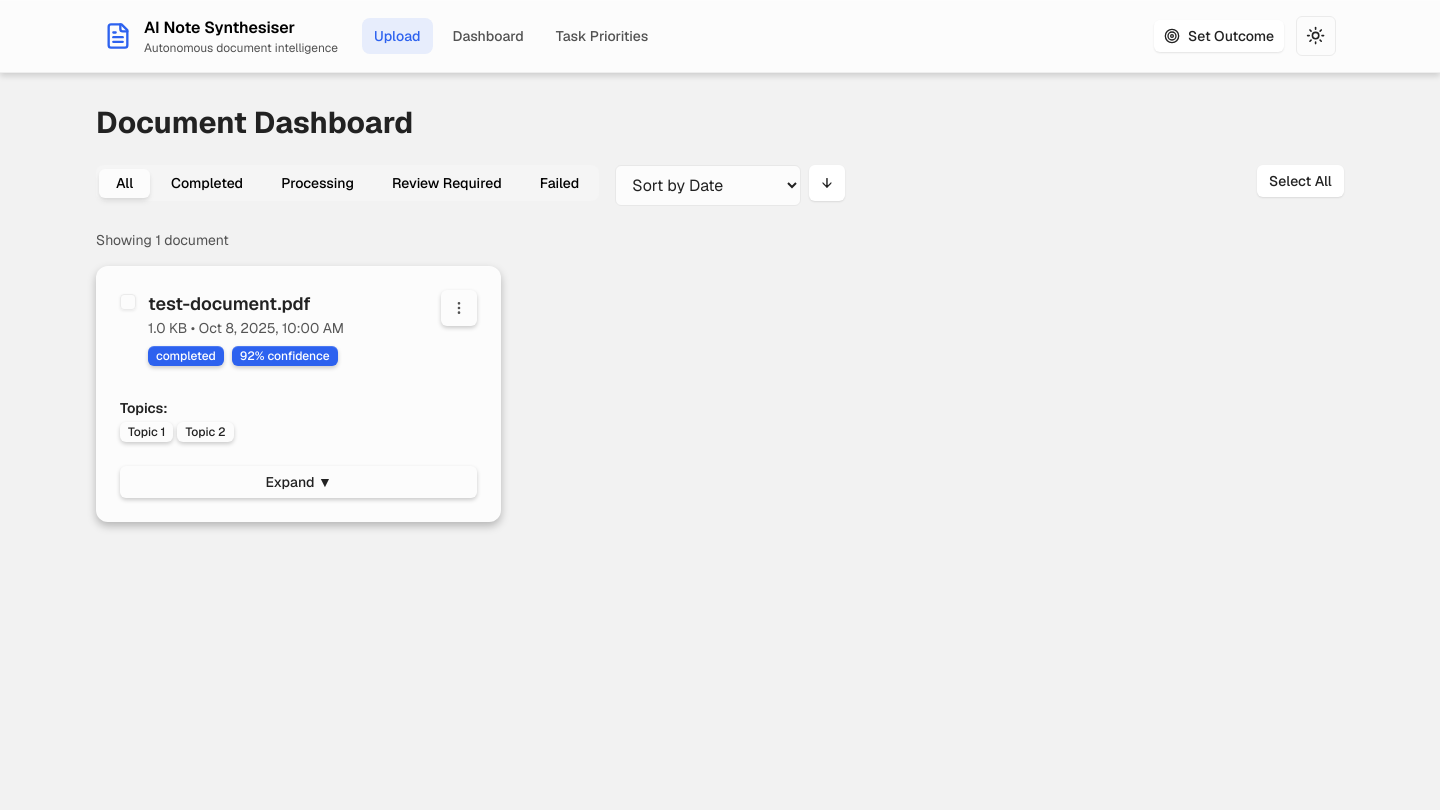
Test: Dashboard Page › should expand card to show full summary
Expected: the text "test-document.pdf" is shown, [148,292,311,315]
Click the button "Expand ▼": (299,482) [120,466,477,498]
(page scrolled)
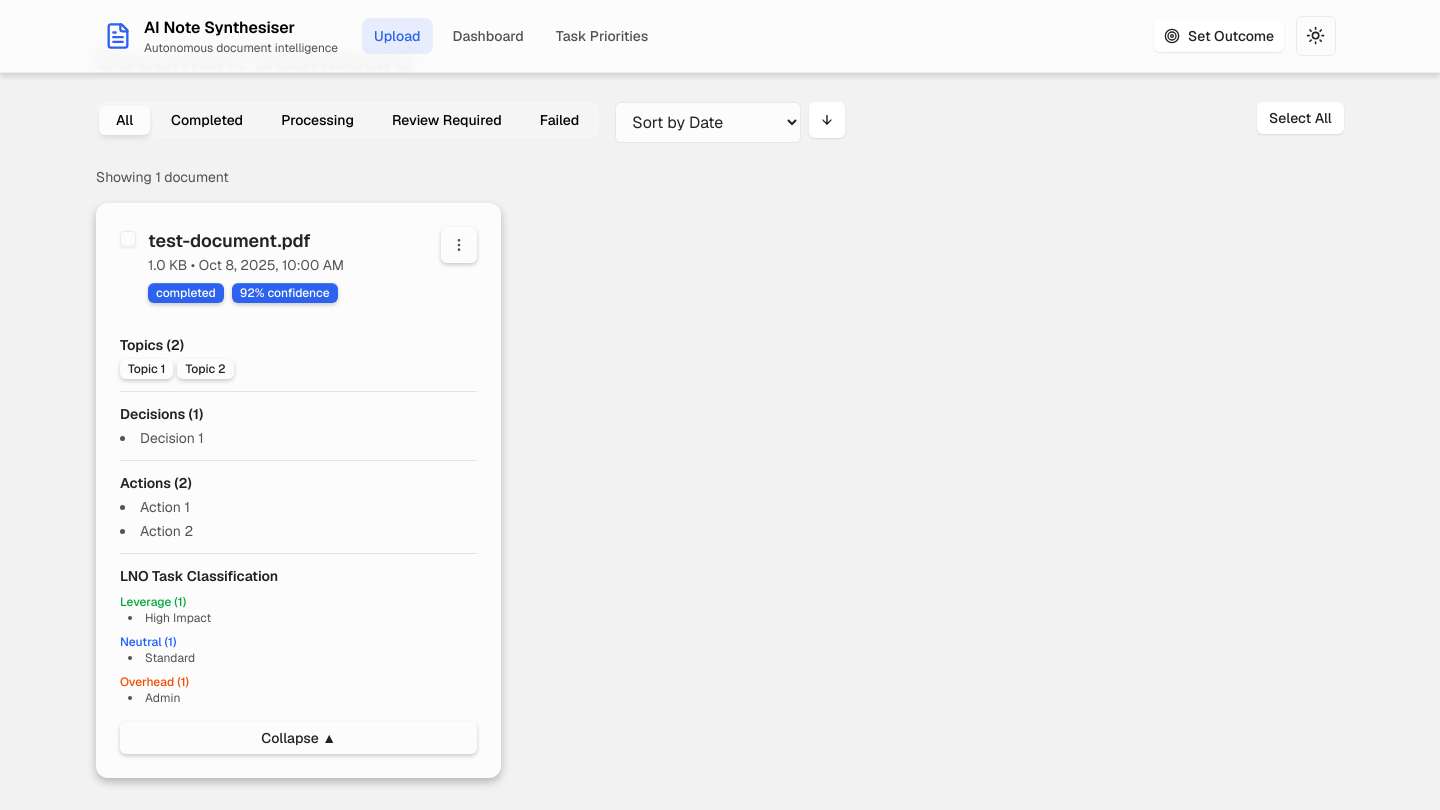
Result: the button "Collapse ▲" is shown at [120,722,477,754]
